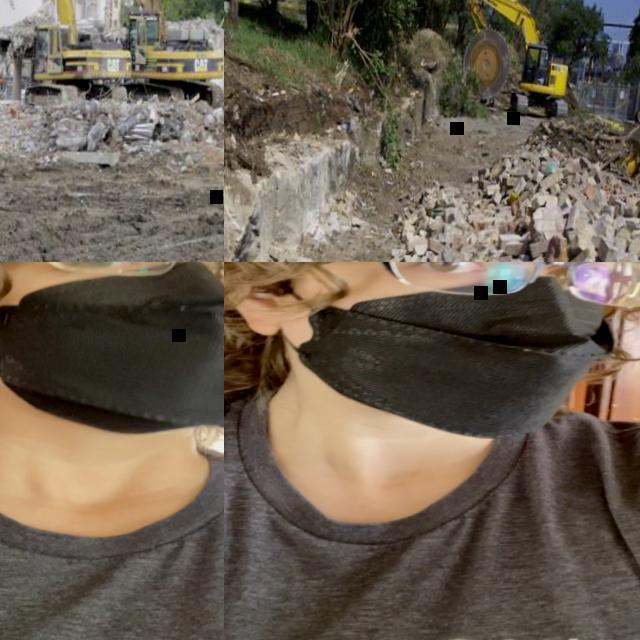machinery: (18, 0, 224, 109), (0, 0, 141, 111), (455, 0, 577, 120)
mask: (255, 262, 621, 450), (0, 262, 224, 441)
no_vest: (224, 395, 640, 640), (0, 425, 224, 640)
person: (224, 262, 640, 640), (0, 262, 224, 640)
